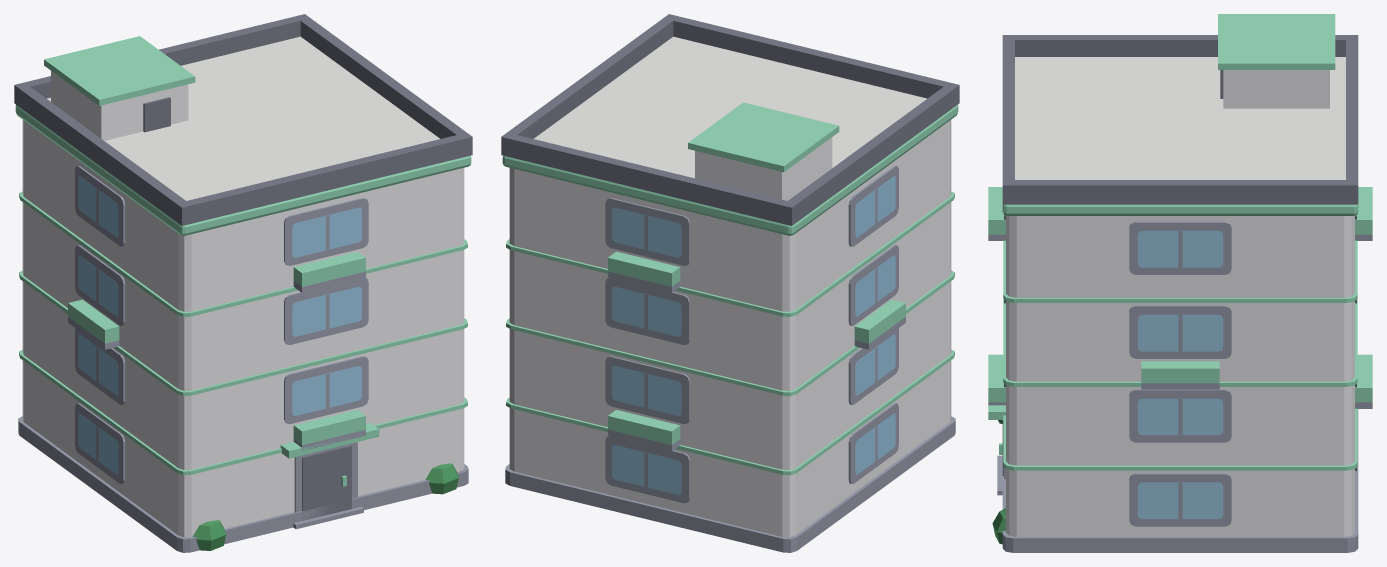
Rendered from tower-1x1-4f-tone-a.glb.
3 views of the same model, side by side, from view 1: azimuth 30°, elevation 25°; view 2: azimuth 150°, elevation 25°; view 3: azimuth 270°, elevation 25° (orthographic). The views are drawn at different scales.
Visible parts, largest first — view 1: tower-1x1-4f-tone-a; view 2: tower-1x1-4f-tone-a; view 3: tower-1x1-4f-tone-a.
Part boxes in pixels (box(x1,y1,x2,y2)): tower-1x1-4f-tone-a: box(14, 14, 472, 552); tower-1x1-4f-tone-a: box(501, 14, 959, 552); tower-1x1-4f-tone-a: box(988, 14, 1372, 552).
Bounding box in the file's own units: 1.08 × 1.24 × 1.08.
1 material, 1 textured.
